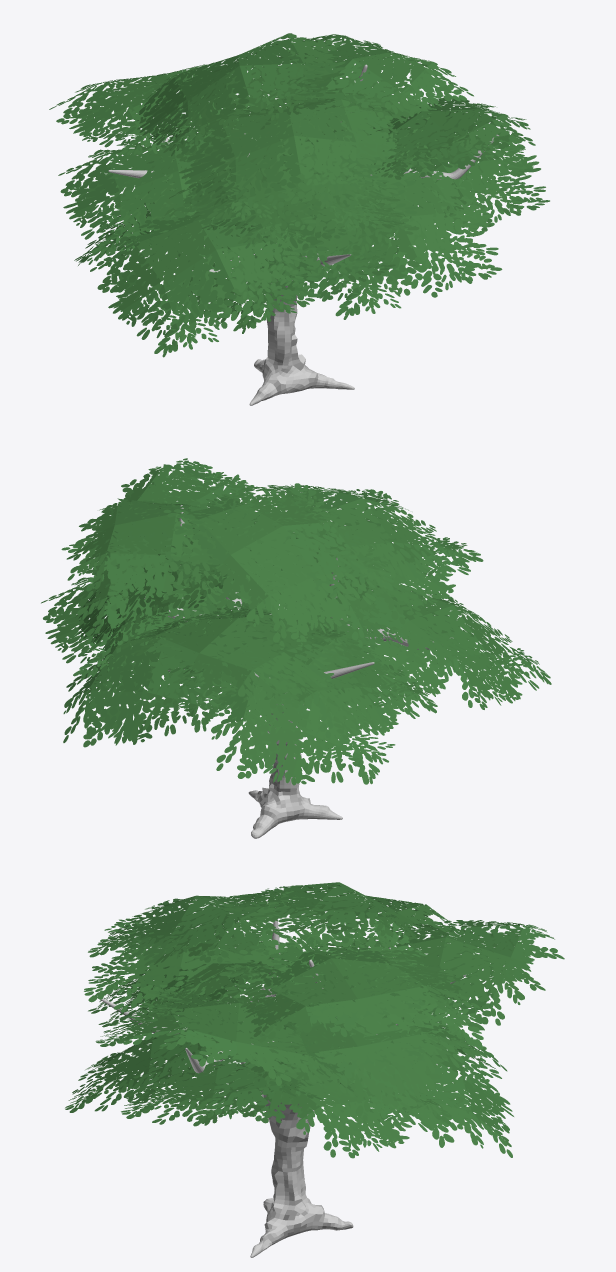
Rendered from BaumNormal.fbx.
3 views of the same model, one above another, from view 1: azimuth 30°, elevation 25°; view 2: azimuth 150°, elevation 25°; view 3: azimuth 270°, elevation 25° (orthographic). The views are drawn at different scales.
Parts seen in each view (by area): view 1: Leaves_Plane.000; view 2: Leaves_Plane.000; view 3: Leaves_Plane.000.
Part boxes in pixels (<box>): Leaves_Plane.000: <box>49,33,549,405</box>; Leaves_Plane.000: <box>41,458,551,838</box>; Leaves_Plane.000: <box>65,882,564,1257</box>.
Bounding box in the file's own units: 1211 × 755 × 1172.
